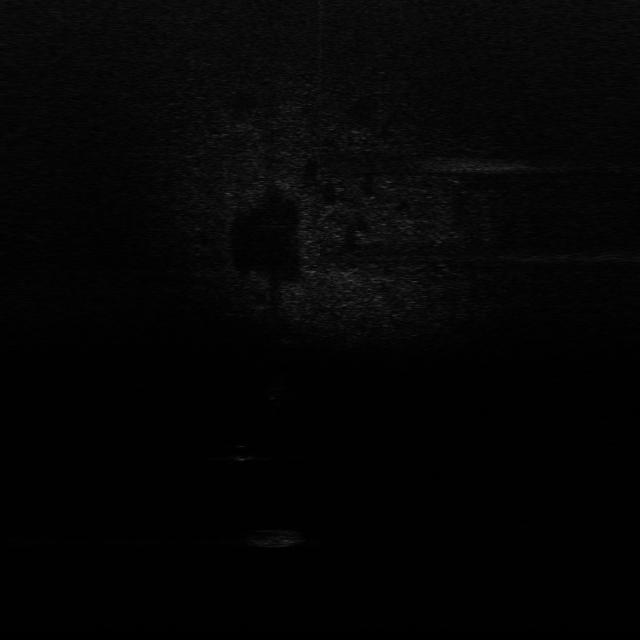ball: (228, 443, 256, 464)
circle cage: (240, 527, 310, 550)
human body: (266, 375, 293, 421)
